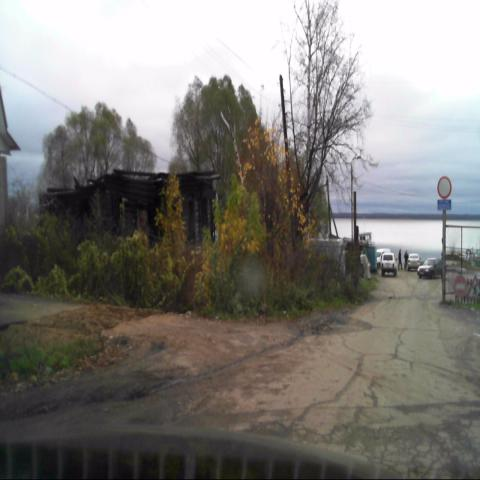3_2: (437, 175, 453, 201)
